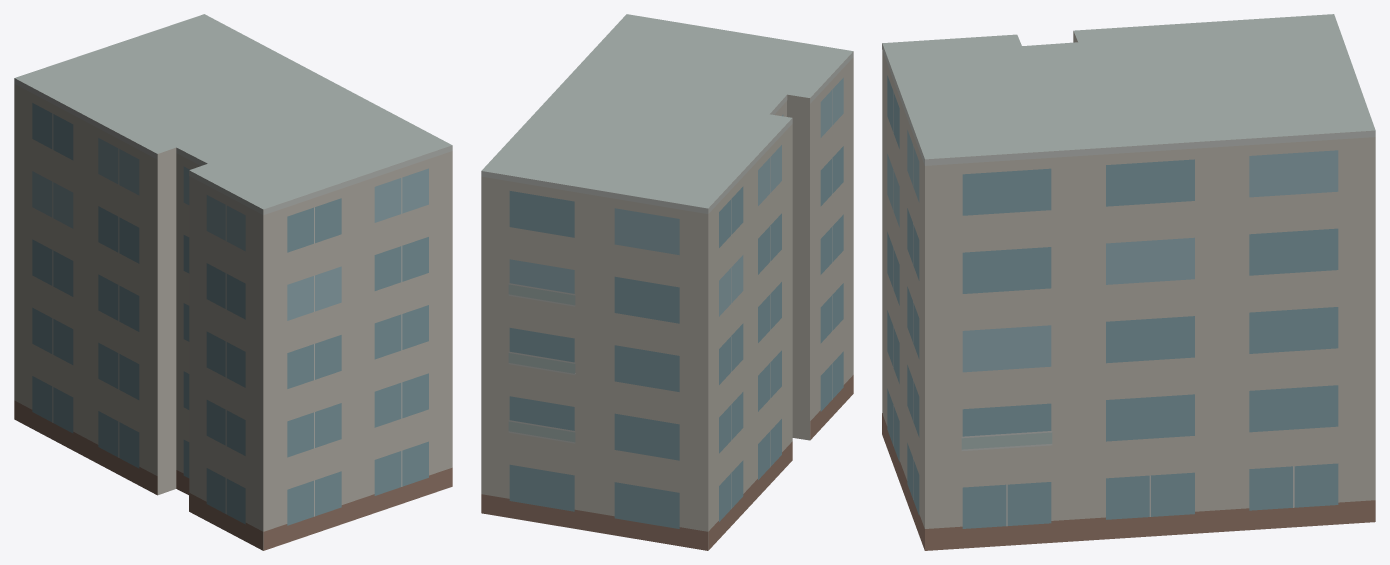
The model's file is survey-upis-33029743.glb.
3 views of the same model, side by side, from view 1: azimuth 30°, elevation 25°; view 2: azimuth 150°, elevation 25°; view 3: azimuth 270°, elevation 25° (orthographic). The views are drawn at different scales.
Visible parts, largest first — view 1: survey-upis-33029743.tmp; view 2: survey-upis-33029743.tmp; view 3: survey-upis-33029743.tmp.
Part boxes in pixels (left/top/right/bottom): survey-upis-33029743.tmp: left=14, top=14, right=452, bottom=550; survey-upis-33029743.tmp: left=481, top=14, right=853, bottom=550; survey-upis-33029743.tmp: left=882, top=14, right=1375, bottom=550.
Bounding box in the file's own units: 11.64 × 14.6 × 16.69.
